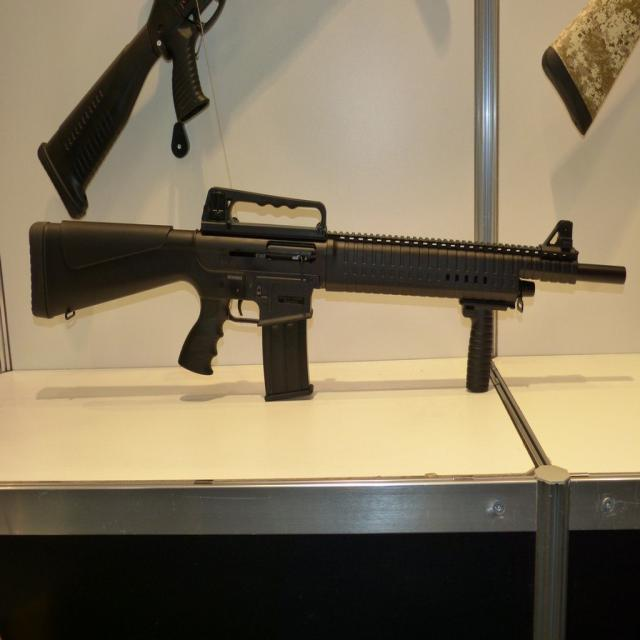firearm: (29, 188, 628, 397), (35, 0, 228, 219)
